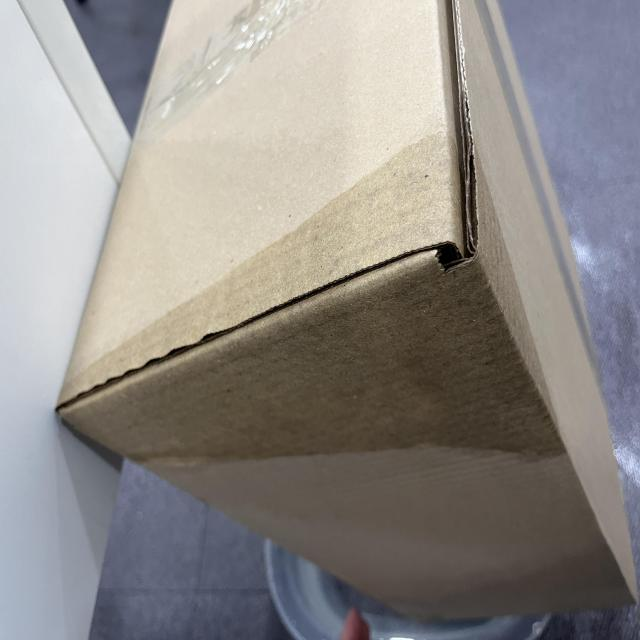wet: (112, 78, 388, 640)
